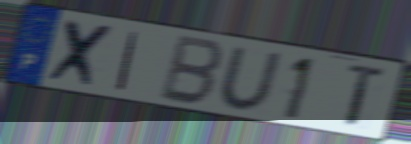1: (284, 55, 317, 121)
B: (156, 32, 228, 108)
I: (113, 29, 142, 94)
T: (344, 61, 389, 130)
U: (217, 45, 285, 114)
X: (44, 17, 119, 91)
